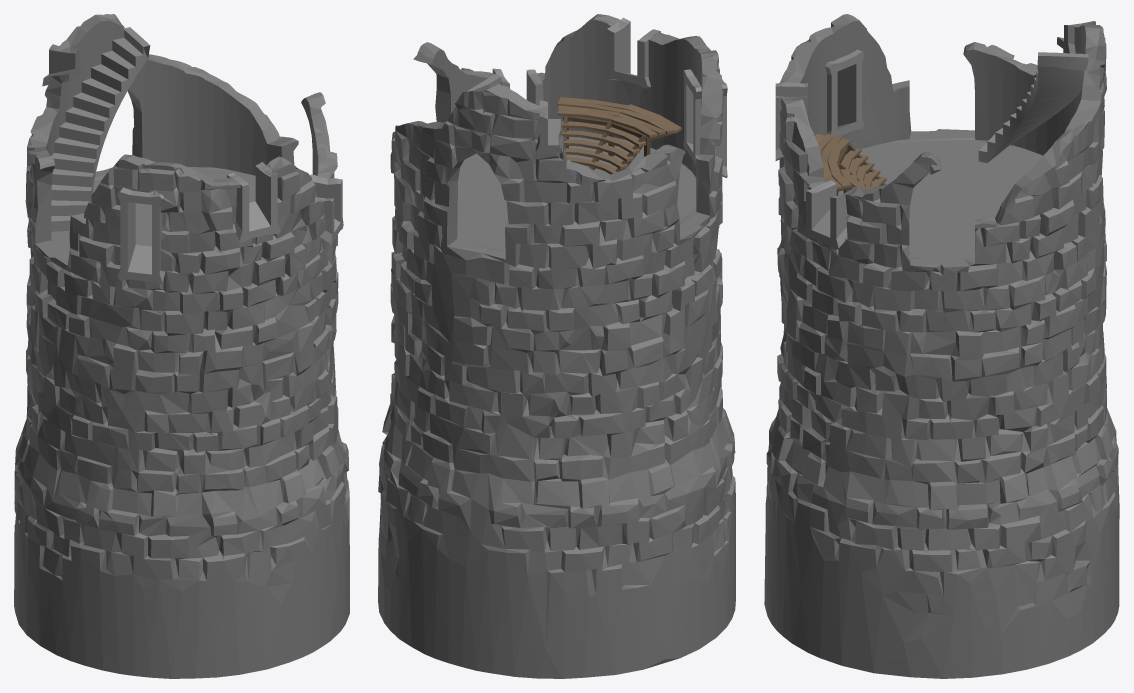
The model's file is castle_round_tower_c1_destroyed.FBX.
3 views of the same model, side by side, from view 1: azimuth 30°, elevation 25°; view 2: azimuth 150°, elevation 25°; view 3: azimuth 270°, elevation 25° (orthographic). The views are drawn at different scales.
Parts seen in each view (by area): view 1: castle_round_tower_c1_destroyed; view 2: castle_round_tower_c1_destroyed; view 3: castle_round_tower_c1_destroyed.
Boxes of the visible parts, x1=… form: castle_round_tower_c1_destroyed: x1=14, y1=14, x2=349, y2=678; castle_round_tower_c1_destroyed: x1=378, y1=14, x2=735, y2=678; castle_round_tower_c1_destroyed: x1=764, y1=14, x2=1119, y2=678.
Size of the model in its own units: 7.44 by 13.18 by 7.44.
